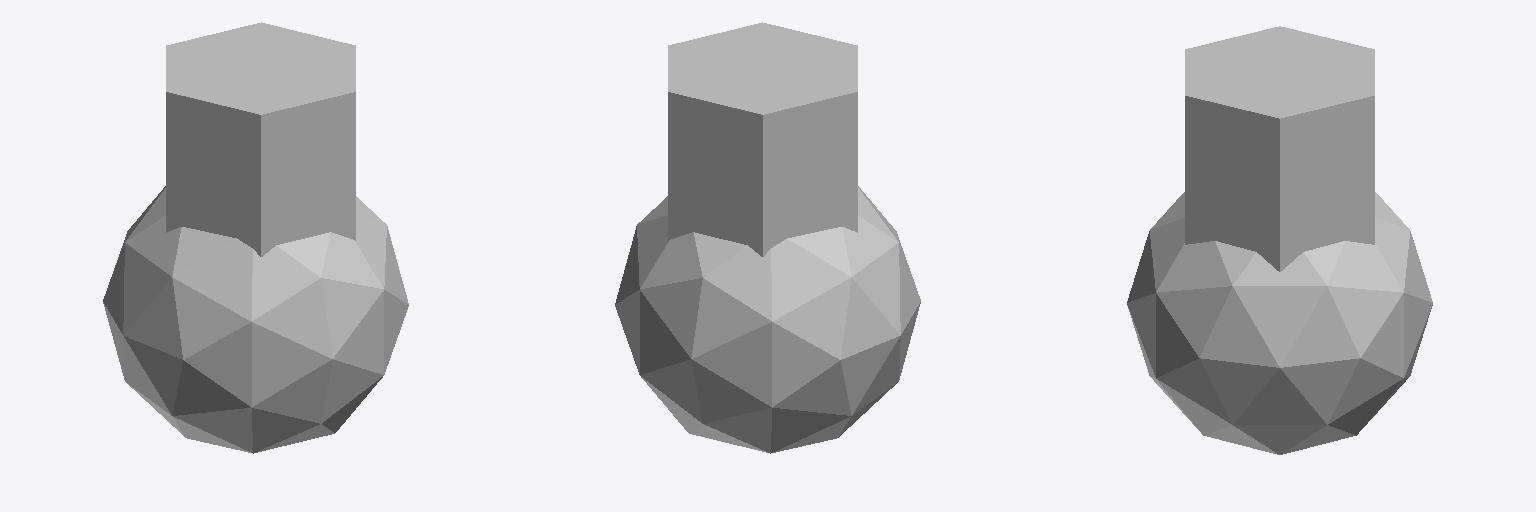
Rendered from Bulb (3).obj.
3 views of the same model, side by side, from view 1: azimuth 30°, elevation 25°; view 2: azimuth 150°, elevation 25°; view 3: azimuth 270°, elevation 25° (orthographic).
Parts seen in each view (by area): view 1: Bulb (3); view 2: Bulb (3); view 3: Bulb (3).
Boxes of the visible parts, x1=… form: Bulb (3): x1=103, y1=22, x2=408, y2=453; Bulb (3): x1=615, y1=22, x2=920, y2=453; Bulb (3): x1=1127, y1=26, x2=1432, y2=454.
Size of the model in its own units: 0.14 by 0.1875 by 0.14.